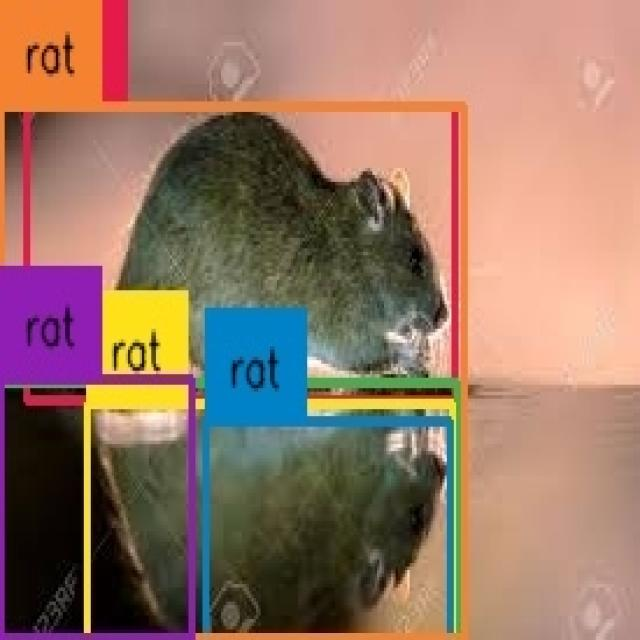rat: (1, 105, 464, 640), (27, 107, 455, 400), (1, 381, 457, 640), (89, 402, 452, 640), (207, 419, 451, 640), (0, 381, 193, 640)
